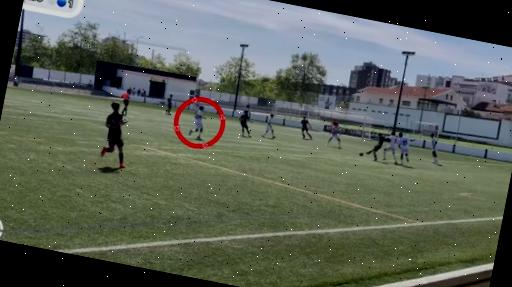highlight_overlay: (170, 92, 228, 152)
